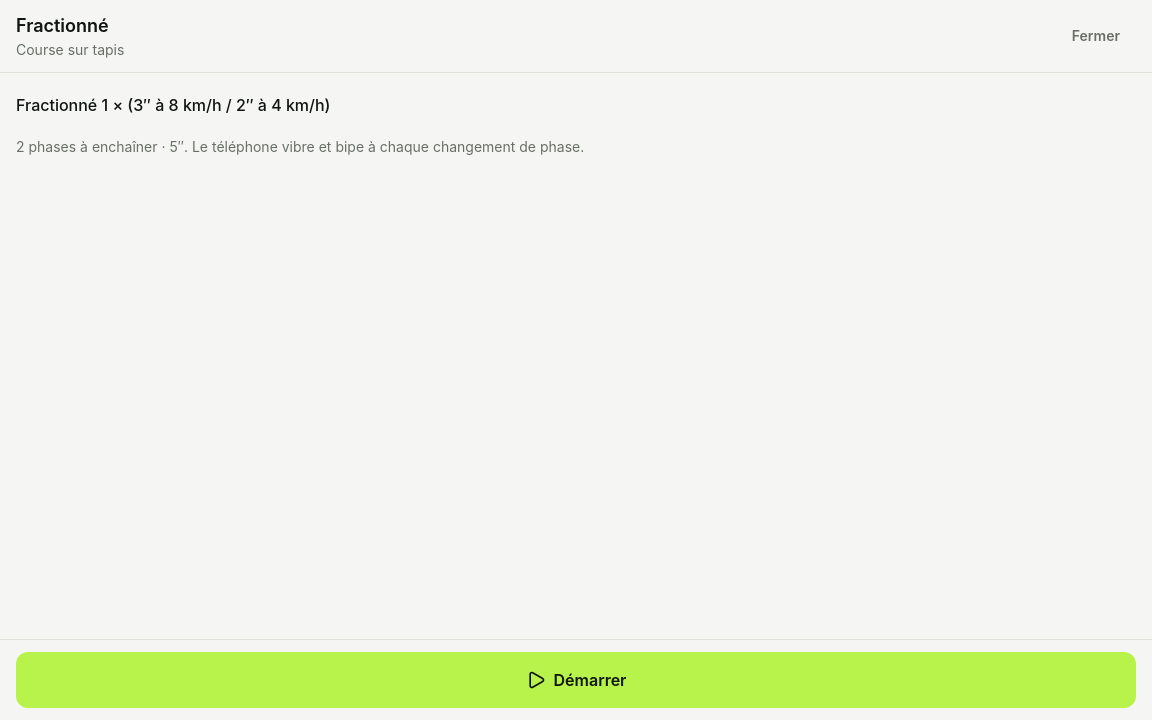
Test: IntervalTimerSheet › enchaîne les phases puis enregistre les séries après confirmation
The width and height of the screenshot is (1152, 720).
Later steps or results of the test are not shown.
Check: the text "Fractionné 1 × (3″ à 8 km/h / 2″ à 4 km/h)" is shown, box [16,95,330,115]
Click the button "Démarrer".
click(576, 680)  # box [16,652,1136,708]
Wait 5500 ms
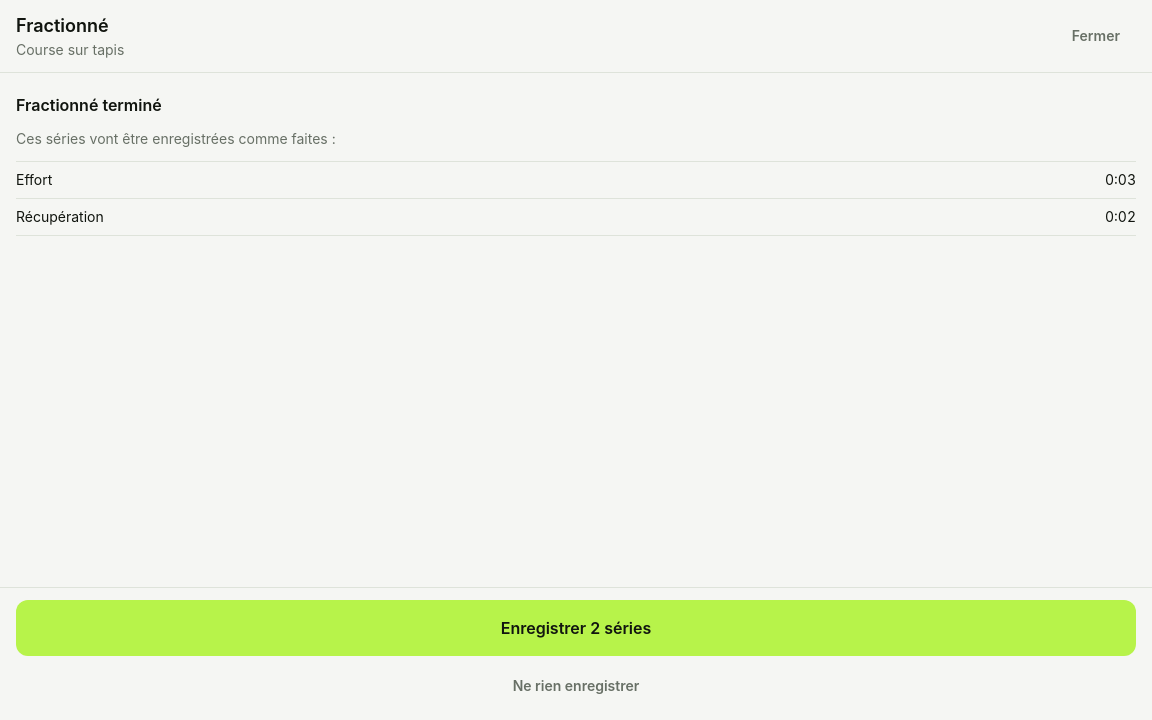
Check: the text "Effort" is shown, box [16,170,52,190]
Check: the text "Récupération" is shown, box [16,207,104,227]
Check: the text "Fractionné terminé" is shown, box [16,95,162,115]
